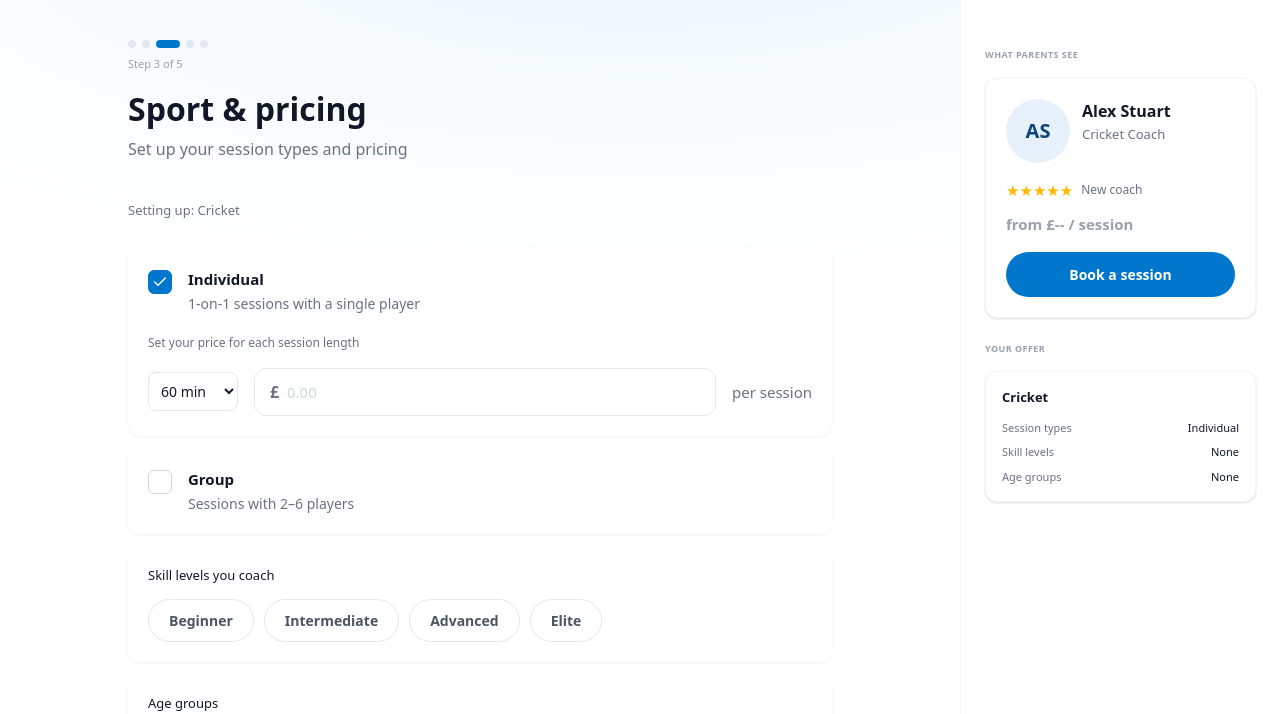
Test: PricingStep — toggling the Group checkbox › expands the card seeded with one 2-player row, and collapses it again on uncheck
Expected: the text "1-on-1 sessions with a single player" is shown, x1=188 y1=292 x2=420 y2=314
Expected: the text "Set the total price for each group size you offer" is not shown
Click the text "Group": (211, 479) x1=188 y1=469 x2=234 y2=489
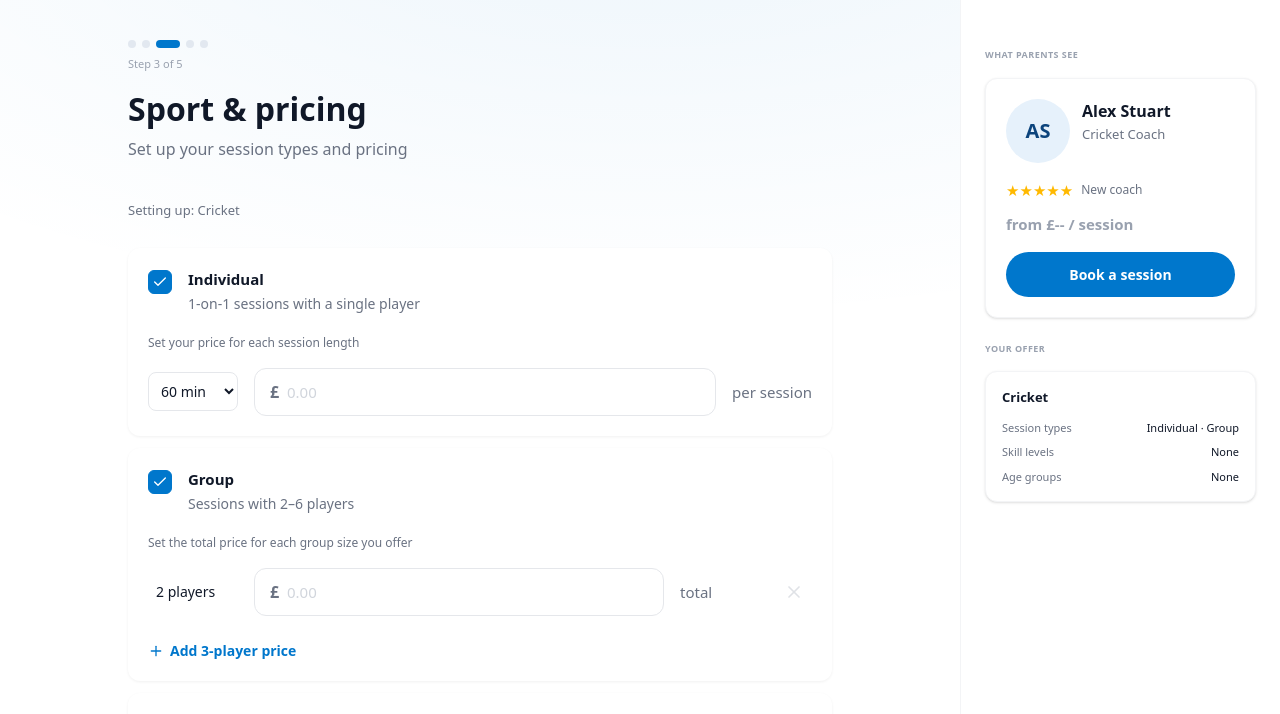
Result: the text "Set the total price for each group size you offer" is shown at x1=148 y1=534 x2=412 y2=550
Result: the text "2 players" is shown at x1=156 y1=582 x2=215 y2=601
Click the text "Group": (211, 479) x1=188 y1=469 x2=234 y2=489
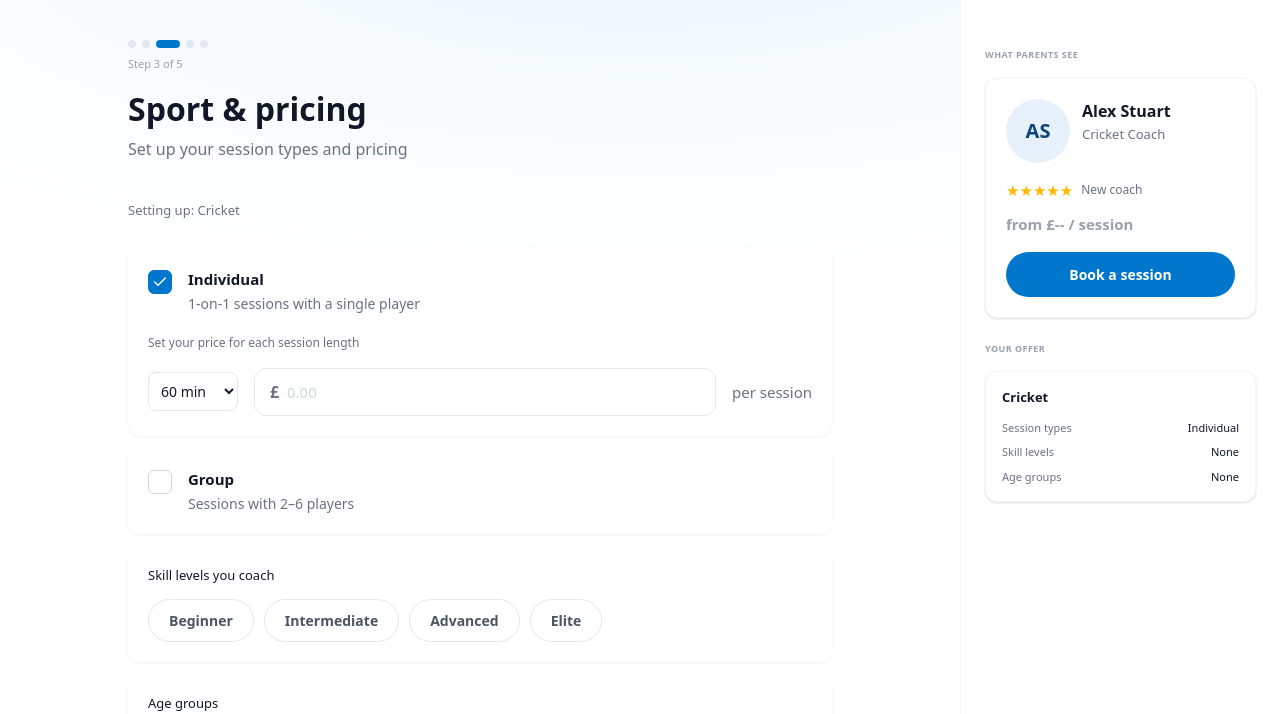
Result: the text "Set the total price for each group size you offer" is gone
